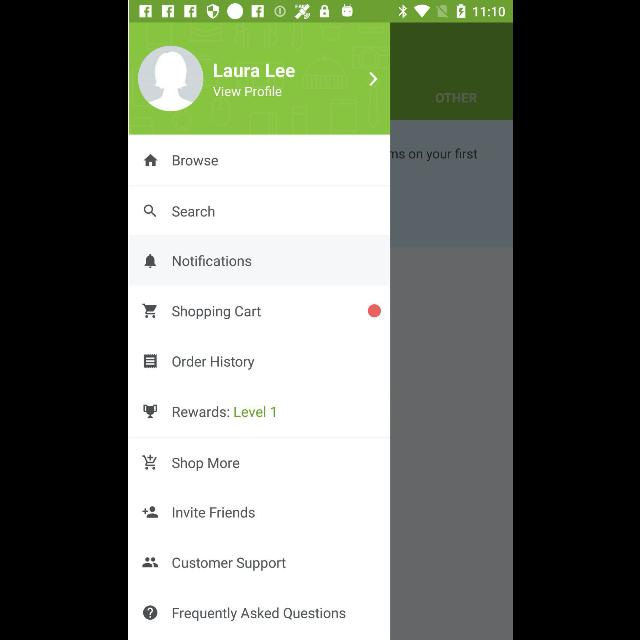icon: (136, 46, 202, 112), (140, 454, 156, 470), (140, 304, 156, 318), (142, 606, 156, 620), (142, 354, 156, 368), (141, 556, 157, 568), (141, 506, 157, 518), (142, 205, 156, 218), (143, 254, 155, 268), (142, 154, 156, 166), (368, 72, 377, 86)
image: (142, 405, 156, 419)
panel: (127, 22, 389, 640)
text: (172, 607, 344, 621), (171, 558, 285, 570), (212, 62, 294, 78), (170, 306, 260, 320), (172, 406, 274, 418), (170, 356, 254, 370), (171, 506, 253, 518), (170, 457, 238, 471), (172, 255, 250, 267), (212, 86, 280, 98), (170, 206, 213, 218), (171, 156, 217, 167)
uppertaskbar: (128, 1, 512, 23)
